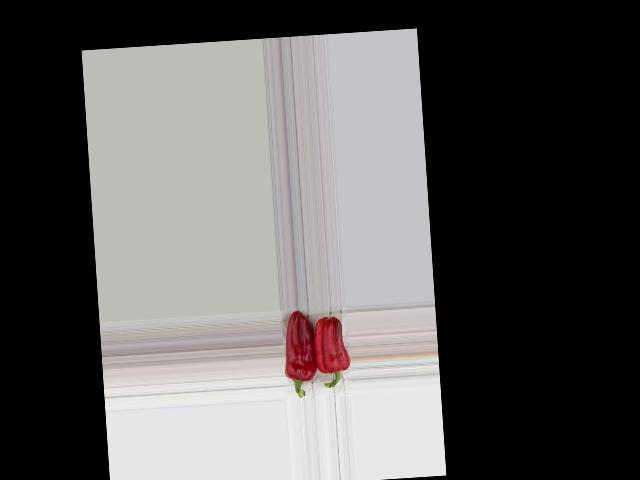bell_pepper: (281, 309, 319, 401)
